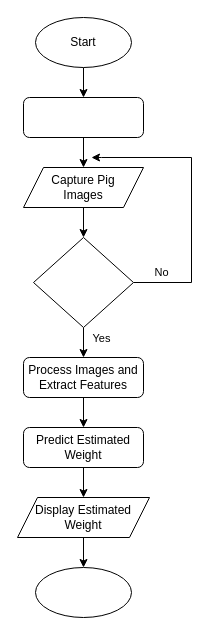
Some shapes in this 217 by 635 pixel diagram are drawn without their labels. Here are the shapes that lost their labels. From the top down, the centre of each, then its label:
(83,117): Initialize System
(83,282): Good Quality Image?
(83,592): End
